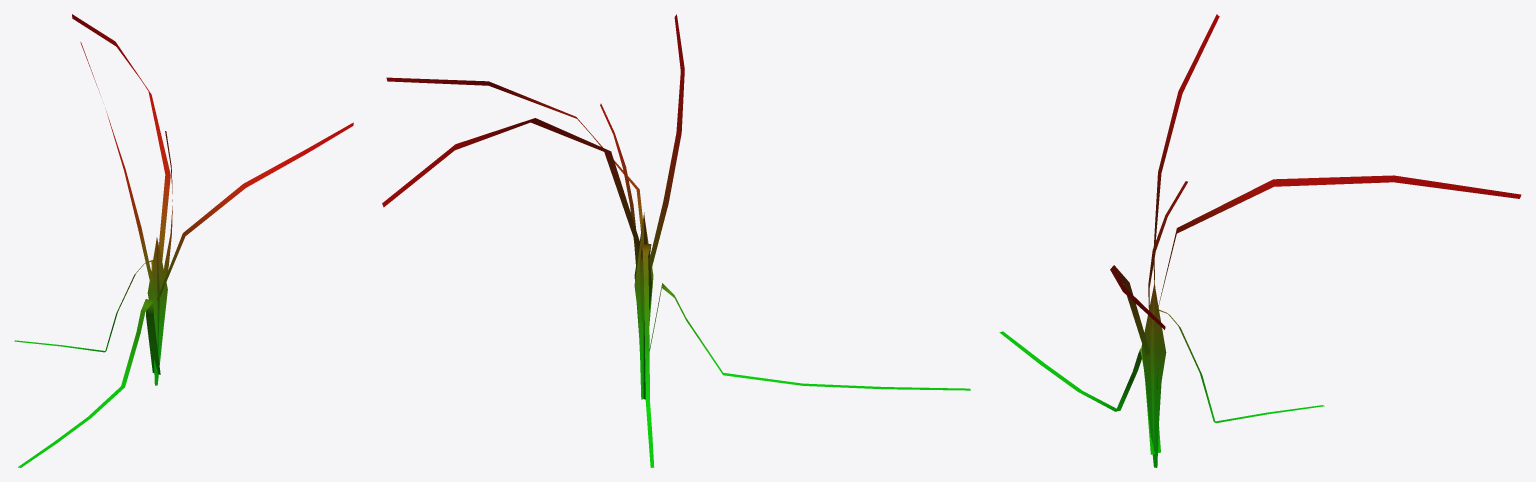
File: Sea Wheatgrass_LOD2_Var19_ui2oagjia.fbx
3 views of the same model, side by side, from view 1: azimuth 30°, elevation 25°; view 2: azimuth 150°, elevation 25°; view 3: azimuth 270°, elevation 25° (orthographic). The views are drawn at different scales.
Parts seen in each view (by area): view 1: _x3m2_Var19_LOD2; view 2: _x3m2_Var19_LOD2; view 3: _x3m2_Var19_LOD2.
Part boxes in pixels (x1,y1,x2,y2): _x3m2_Var19_LOD2: [14, 14, 353, 467]; _x3m2_Var19_LOD2: [382, 14, 970, 467]; _x3m2_Var19_LOD2: [999, 14, 1521, 467].
Size of the model in its own units: 32.43 by 26.11 by 29.27.
